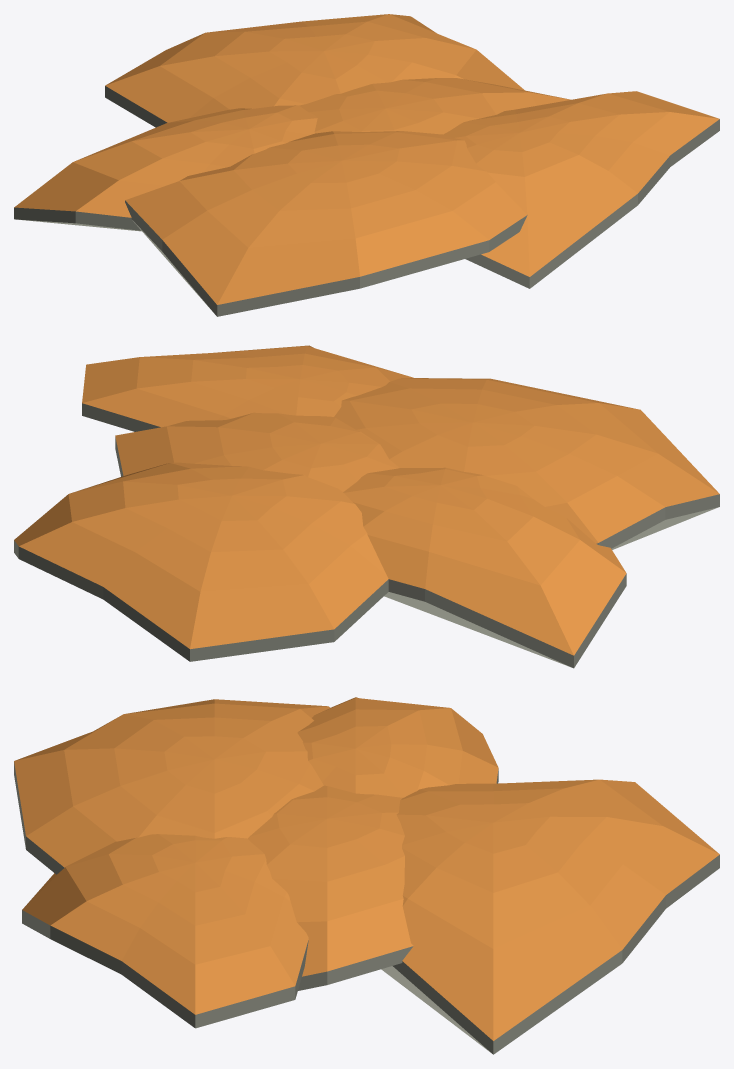
The model's file is LAVA_EDGE_LICHEN.lo.glb.
3 renders of one model, top to bottom at view 1: azimuth 30°, elevation 25°; view 2: azimuth 150°, elevation 25°; view 3: azimuth 270°, elevation 25°, orthographic. The views are drawn at different scales.
Parts seen in each view (by area): view 1: LAVA_EDGE_LICHEN; view 2: LAVA_EDGE_LICHEN; view 3: LAVA_EDGE_LICHEN.
Part boxes in pixels (x1,y1,x2,y2): LAVA_EDGE_LICHEN: (14,14,719,316); LAVA_EDGE_LICHEN: (14,345,719,668); LAVA_EDGE_LICHEN: (14,697,719,1054).
Bounding box in the file's own units: 0.4616 × 0.0816 × 0.4235.
1 material, 1 textured.
